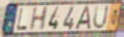4: (62, 6, 75, 31), (47, 6, 59, 31)
A: (74, 5, 91, 31)
H: (28, 6, 50, 32)
L: (15, 8, 28, 31)
U: (92, 4, 110, 30)
